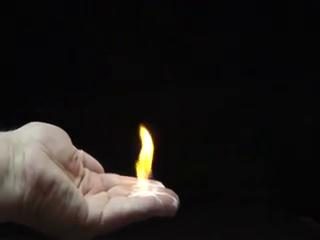Fire: (130, 151, 157, 204)
